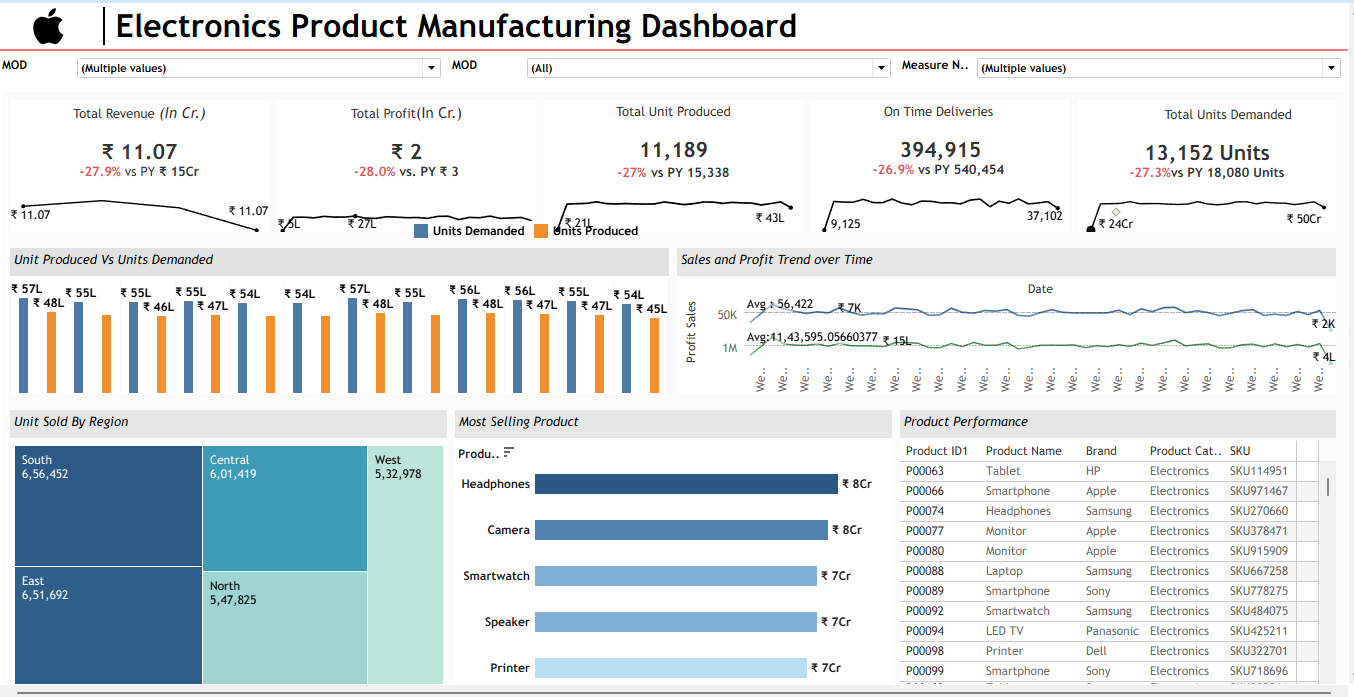

The dashboard page shown, as its layout file describes it:
{"tool":"tableau","page":{"name":"Dashboard 1","canvas":[1350,850],"ordinal":0},"visuals":[{"type":"image","param":"Image/download__1_-removebg-preview.png","box":[0,0,101,56]},{"type":"blank","box":[101,0,10,56]},{"type":"text","box":[111,0,865,56]},{"type":"blank","box":[976,0,374,56]},{"type":"blank","box":[0,56,1350,2]},{"type":"filter","title":"Unit Produced Vs Units Demanded","param":"[federated.0bsn9tm14zc44j15jpvzd0lx3n3e].[mn:Date:ok]","box":[0,58,450,45]},{"type":"filter","title":"Unit Produced Vs Units Demanded","param":"[federated.0bsn9tm14zc44j15jpvzd0lx3n3e].[tmn:Date:ok]","box":[450,58,450,45]},{"type":"filter","title":"Unit Produced Vs Units Demanded","param":"[federated.0bsn9tm14zc44j15jpvzd0lx3n3e].[:Measure Names]","box":[900,58,450,45]},{"type":"worksheet","title":"Total Revenue","mark":"Automatic","rows":["Revenue"],"cols":["Date"],"box":[8,111,267,140]},{"type":"worksheet","title":"Total Profit","mark":"Automatic","rows":["Profit"],"cols":["Date"],"box":[275,111,267,140]},{"type":"worksheet","title":"Total Unit Produced","mark":"Automatic","rows":["Units_Produced"],"cols":["Date"],"box":[542,111,267,140]},{"type":"worksheet","title":"On Time Deliveries ","mark":"Automatic","rows":["On_time_Delivery_%"],"cols":["Date"],"box":[809,111,267,140]},{"type":"worksheet","title":"Total Units Demanded","mark":"Automatic","rows":["Units_Demanded"],"cols":["Date"],"box":[1076,111,266,140]},{"type":"worksheet","title":"Unit Produced Vs Units Demanded","mark":"Bar","cols":["Date"],"box":[8,259,667,286]},{"type":"worksheet","title":"Sales and Profit Trend over Time","mark":"Automatic","rows":["Units_Sold","Profit"],"cols":["Date"],"box":[675,259,667,286]},{"type":"legend","title":"Unit Produced Vs Units Demanded","param":"[federated.0bsn9tm14zc44j15jpvzd0lx3n3e].[:Measure Names]","box":[341,265,338,23]},{"type":"worksheet","title":"Unit Sold By Region","mark":"Automatic","box":[8,553,445,289]},{"type":"worksheet","title":"Most Selling Product","mark":"Automatic","rows":["Product Name"],"cols":["Unit Price"],"box":[453,553,445,289]},{"type":"worksheet","title":"Product Performance","mark":"Automatic","rows":["Product ID","Product Name","Brand","Product Category","SKU"],"box":[898,553,444,289]}]}

Visuals, with their boxes on the page's 1350x850 design canvas (x1, y1, x2, y2). These are canvas units, not pixel positions in the 1354x697 screenshot, which may show the page scaled, cropped or inside an application window:
image: left=0, top=0, right=101, bottom=56
blank: left=101, top=0, right=111, bottom=56
text: left=111, top=0, right=976, bottom=56
blank: left=976, top=0, right=1350, bottom=56
blank: left=0, top=56, right=1350, bottom=58
"Unit Produced Vs Units Demanded" filter: left=0, top=58, right=450, bottom=103
"Unit Produced Vs Units Demanded" filter: left=450, top=58, right=900, bottom=103
"Unit Produced Vs Units Demanded" filter: left=900, top=58, right=1350, bottom=103
"Total Revenue" worksheet: left=8, top=111, right=275, bottom=251
"Total Profit" worksheet: left=275, top=111, right=542, bottom=251
"Total Unit Produced" worksheet: left=542, top=111, right=809, bottom=251
"On Time Deliveries " worksheet: left=809, top=111, right=1076, bottom=251
"Total Units Demanded" worksheet: left=1076, top=111, right=1342, bottom=251
"Unit Produced Vs Units Demanded" worksheet (Bar marks): left=8, top=259, right=675, bottom=545
"Sales and Profit Trend over Time" worksheet: left=675, top=259, right=1342, bottom=545
"Unit Produced Vs Units Demanded" legend: left=341, top=265, right=679, bottom=288
"Unit Sold By Region" worksheet: left=8, top=553, right=453, bottom=842
"Most Selling Product" worksheet: left=453, top=553, right=898, bottom=842
"Product Performance" worksheet: left=898, top=553, right=1342, bottom=842
